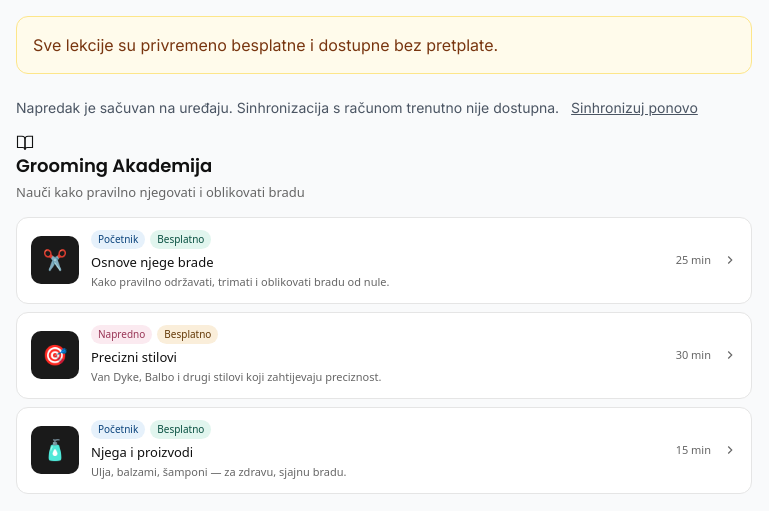
Scenario: bad storage and backend failure retain usable lessons and local progress
Check: the message shows "trenutno nije dostupna", box x1=16 y1=99 x2=559 y2=116
Click the text "Njega i proizvodi" at (142, 452), box x1=91 y1=442 x2=193 y2=460
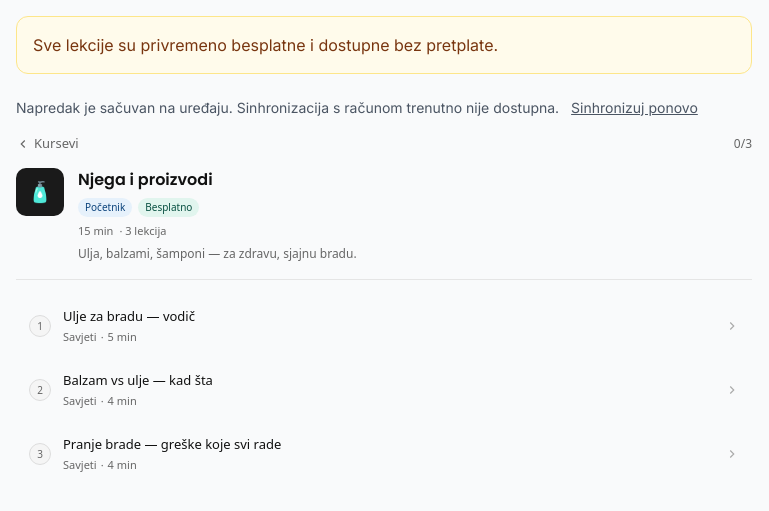
Click the text "Pranje brade — greške koje svi rade" at (172, 444), box x1=63 y1=435 x2=281 y2=453
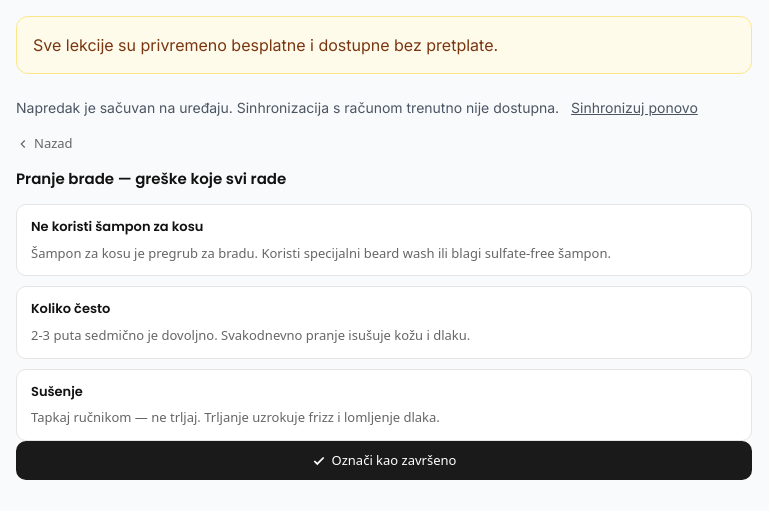
Check: the heading "Sušenje" is shown, box x1=31 y1=382 x2=83 y2=401
